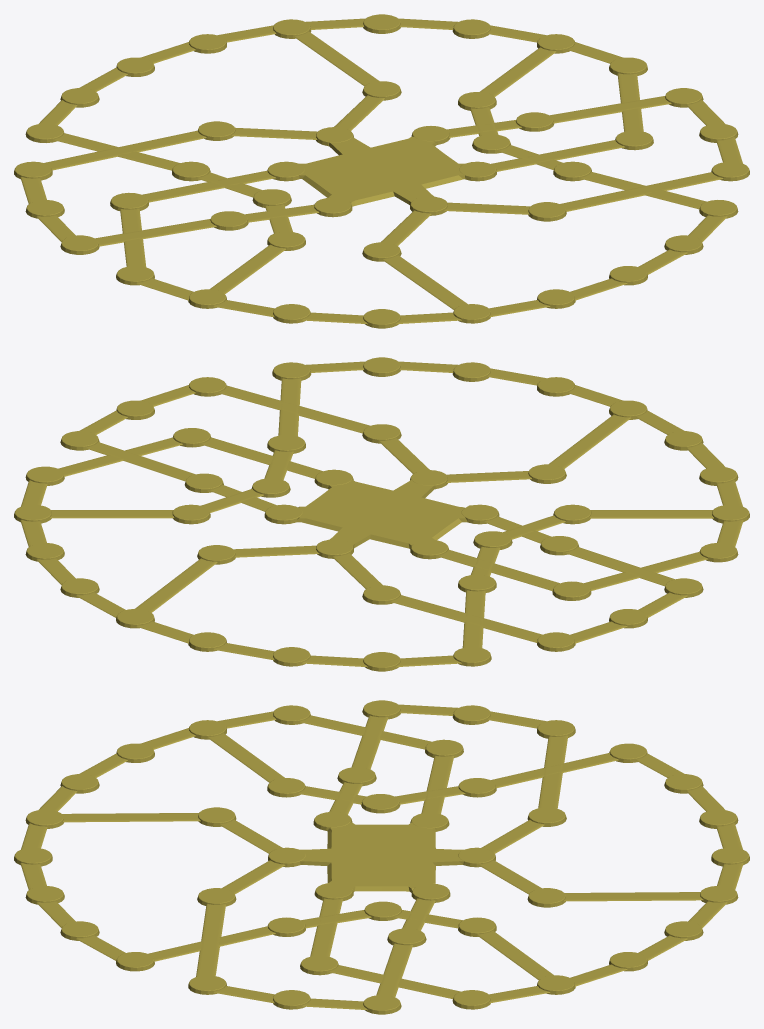
File: Environment_Arena_Track_04.fbx
The picture shows the model from 3 angles, top to bottom: view 1: azimuth 30°, elevation 25°; view 2: azimuth 150°, elevation 25°; view 3: azimuth 270°, elevation 25°; orthographic projection.
Parts seen in each view (by area): view 1: Arena_Track; view 2: Arena_Track; view 3: Arena_Track.
Part boxes in pixels (box(x1,y1,x2,y2)): Arena_Track: box(14, 14, 749, 328); Arena_Track: box(14, 357, 749, 671); Arena_Track: box(14, 700, 749, 1014).
Bounding box in the file's own units: 46459 × 256 × 46459.
